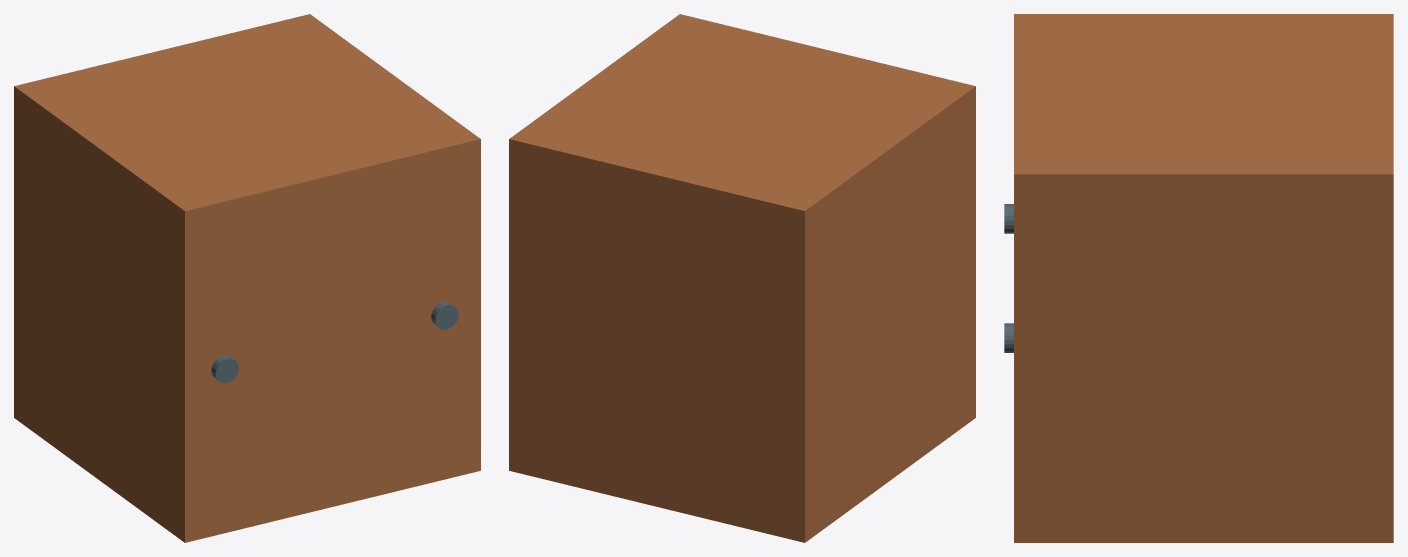
The model's file is bp_woodblock.glb.
3 renders of one model, left to right at view 1: azimuth 30°, elevation 25°; view 2: azimuth 150°, elevation 25°; view 3: azimuth 270°, elevation 25°, orthographic. The views are drawn at different scales.
Visible parts, largest first — view 1: wood_core, wood_bolt, wood_bolt.001; view 2: wood_core; view 3: wood_core.
Boxes of the visible parts, left/top/right/bottom form: wood_core: left=14, top=14, right=480, bottom=542; wood_bolt: left=211, top=355, right=238, bottom=383; wood_bolt.001: left=431, top=301, right=458, bottom=329; wood_core: left=509, top=14, right=975, bottom=542; wood_core: left=1014, top=14, right=1393, bottom=542.
Bounding box in the file's own units: 1.4 × 1.5 × 1.43.
